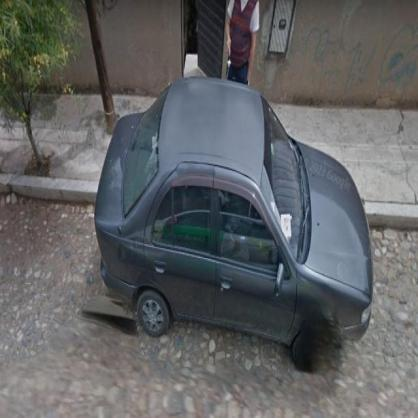car: (97, 76, 374, 366)
